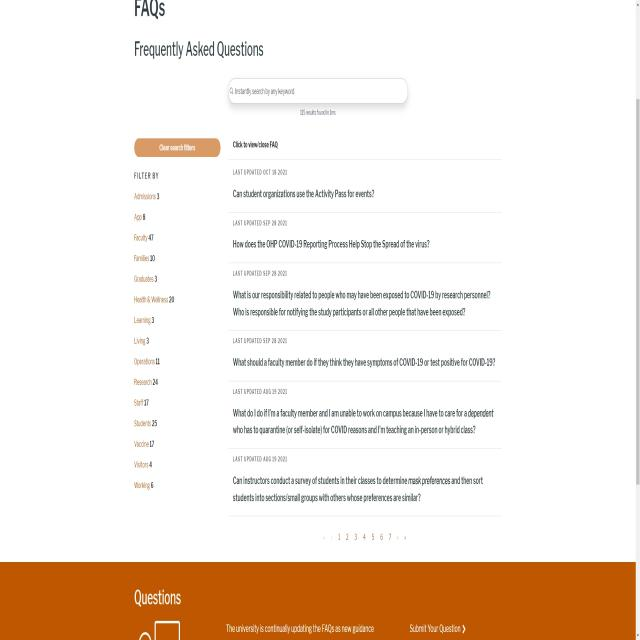menu-panel: (121, 121, 226, 497)
search: (222, 70, 416, 102)
